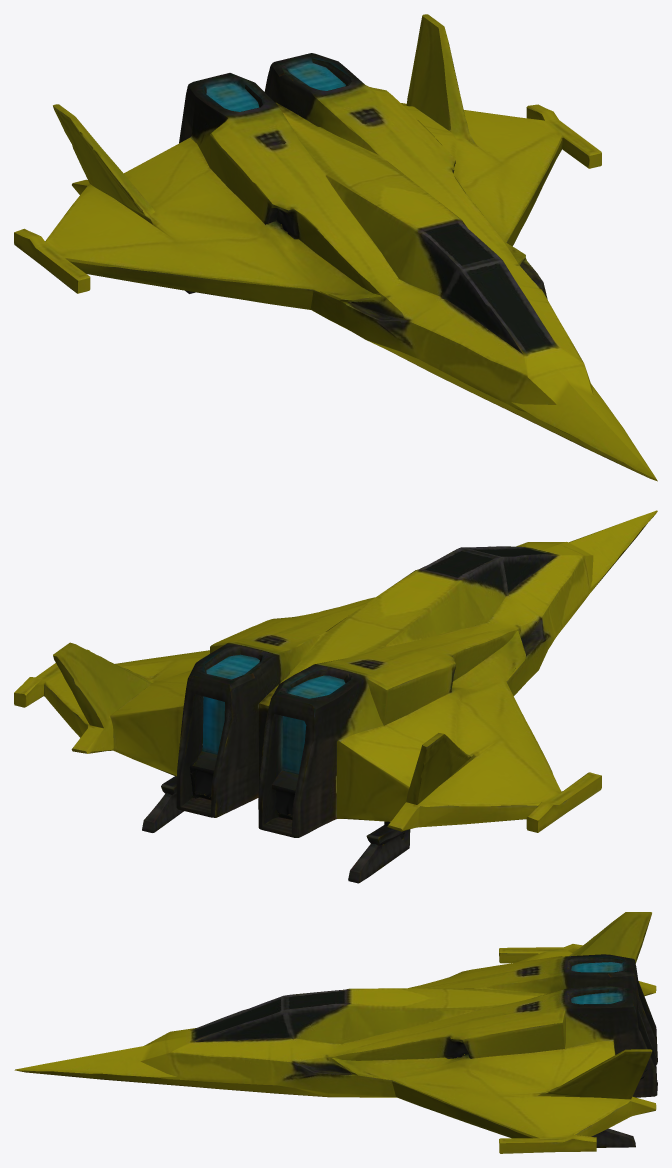
Rendered from nave_02.obj.
3 renders of one model, top to bottom at view 1: azimuth 30°, elevation 25°; view 2: azimuth 150°, elevation 25°; view 3: azimuth 270°, elevation 25°, orthographic. The views are drawn at different scales.
Visible parts, largest first — view 1: geometry_0; view 2: geometry_0, mesh_1; view 3: geometry_0.
Part boxes in pixels (bbox=[...]): geometry_0: bbox=[14, 14, 657, 481]; geometry_0: bbox=[14, 510, 657, 883]; mesh_1: bbox=[189, 763, 294, 817]; geometry_0: bbox=[14, 912, 657, 1153].
Bounding box in the file's own units: 5.02 × 1.53 × 7.
2 materials, 1 textured.
